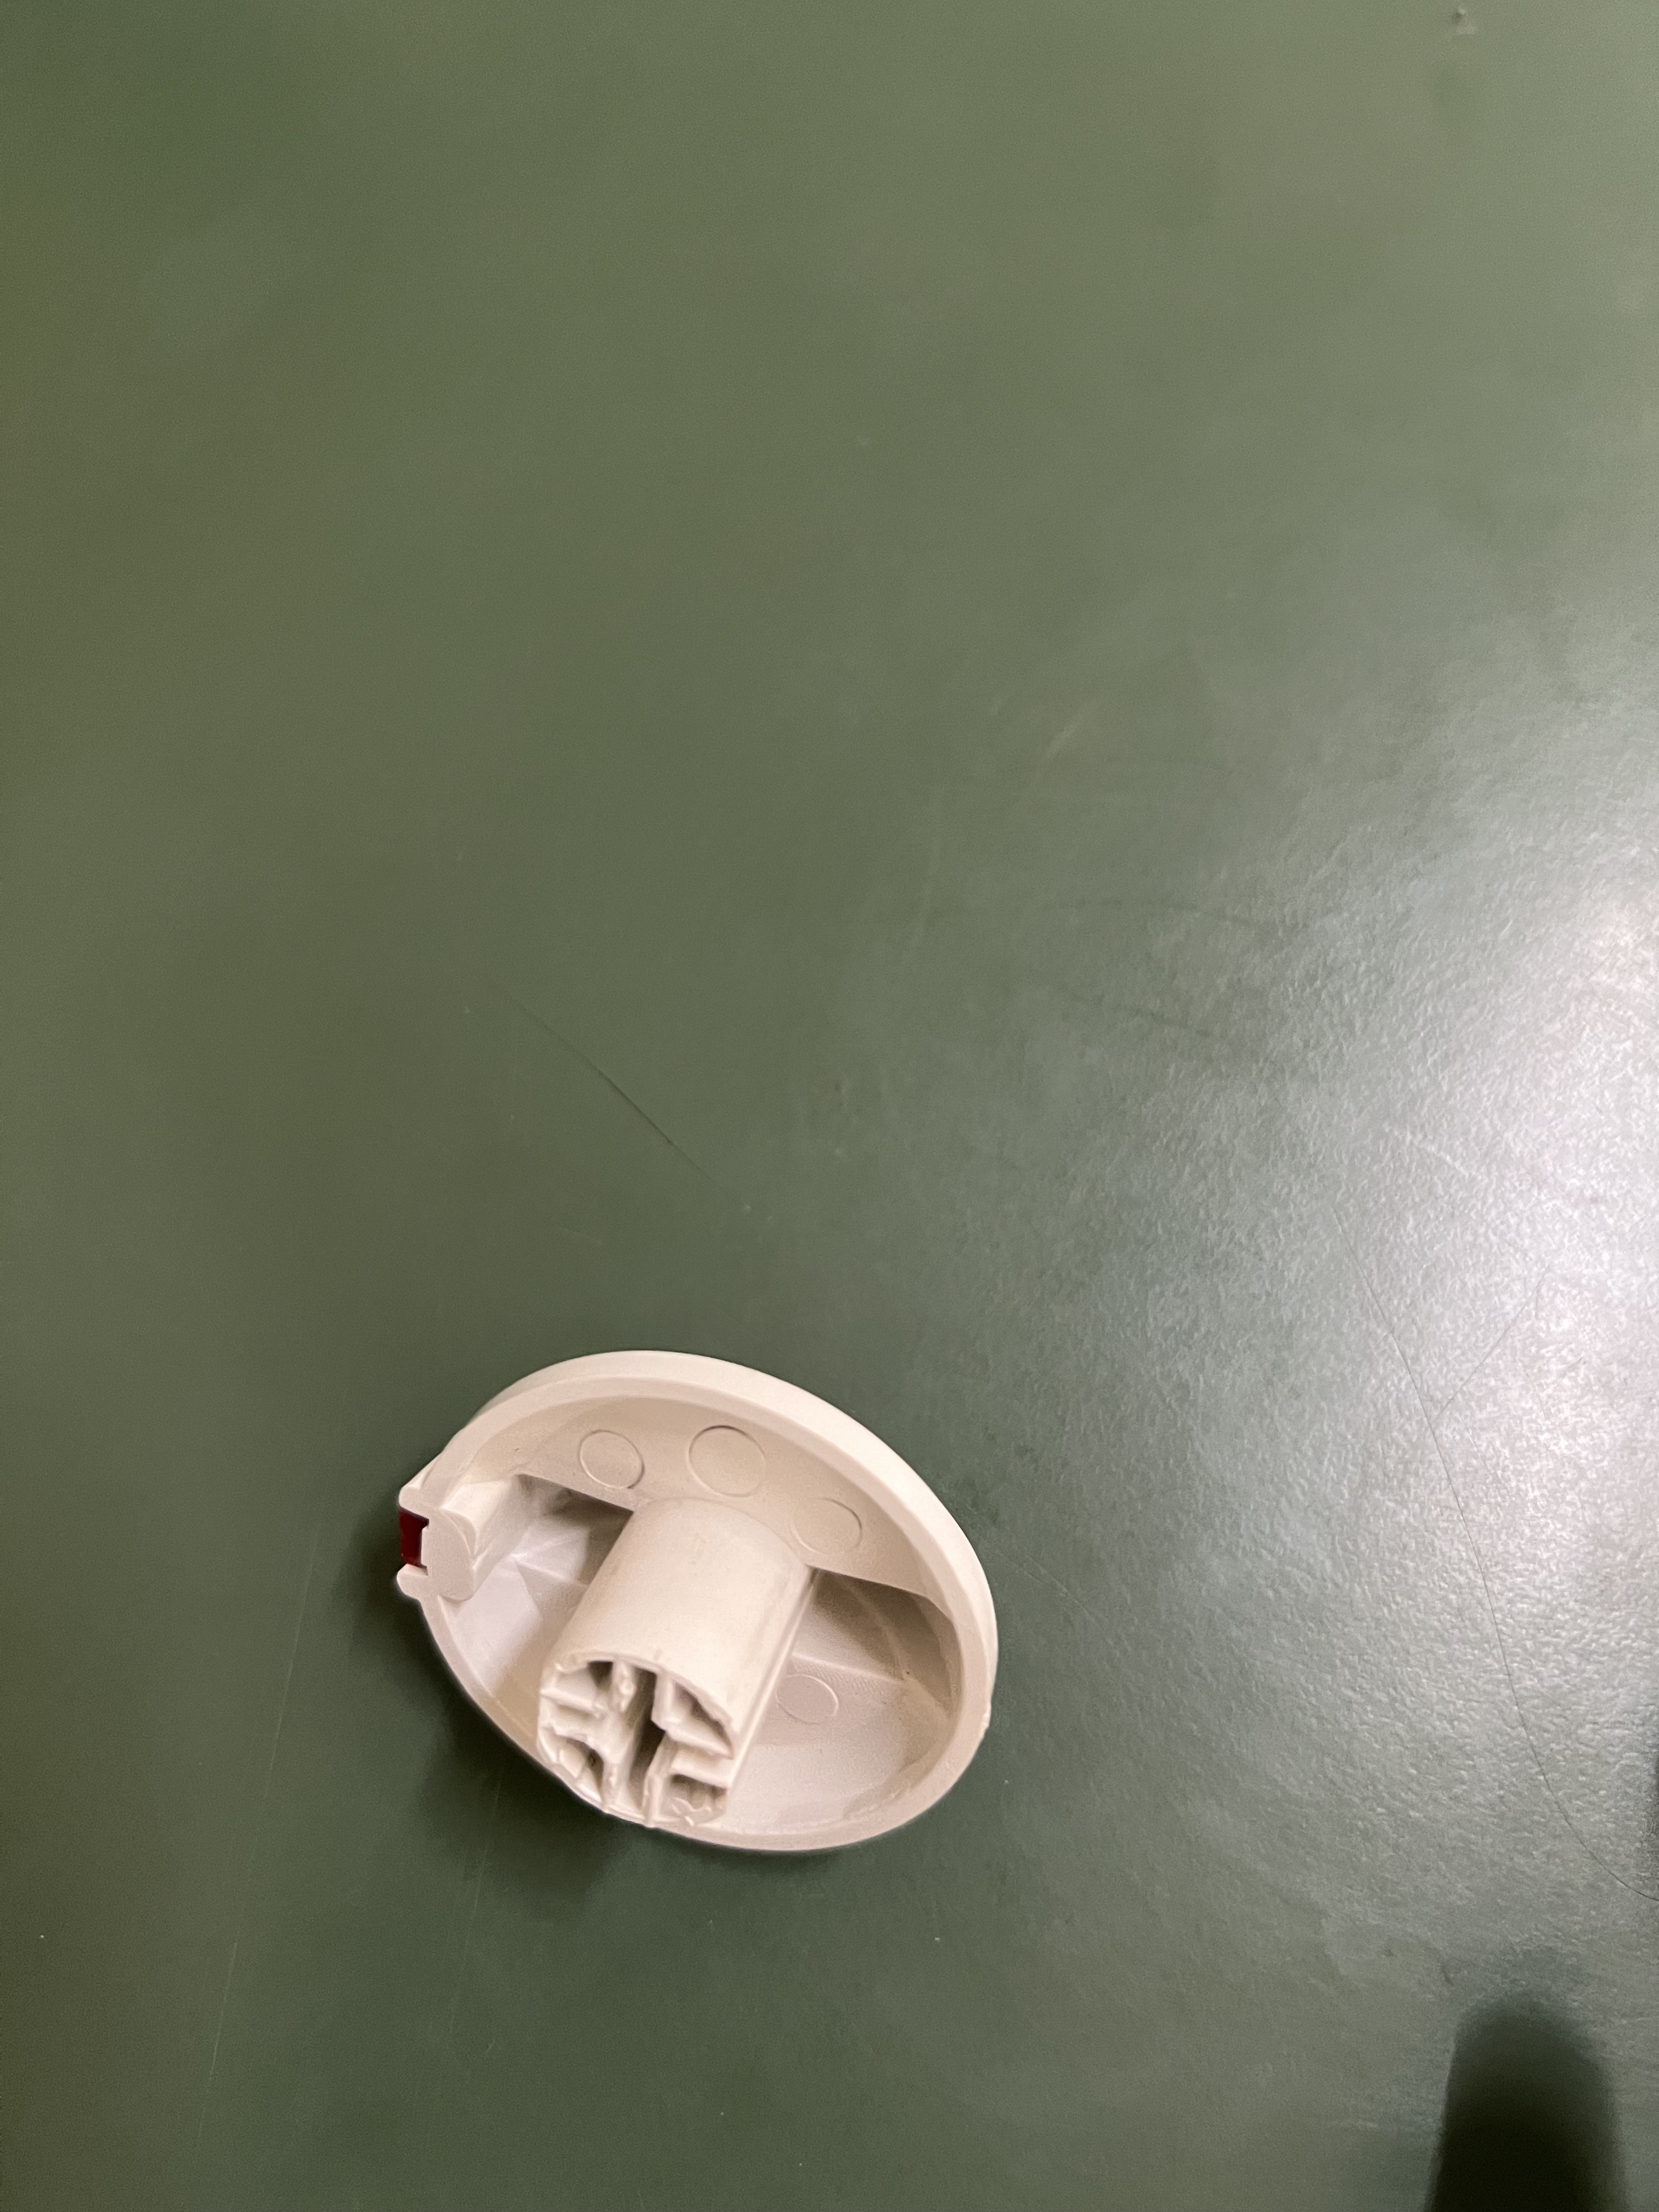regulator: (378, 1341, 1030, 1855)
